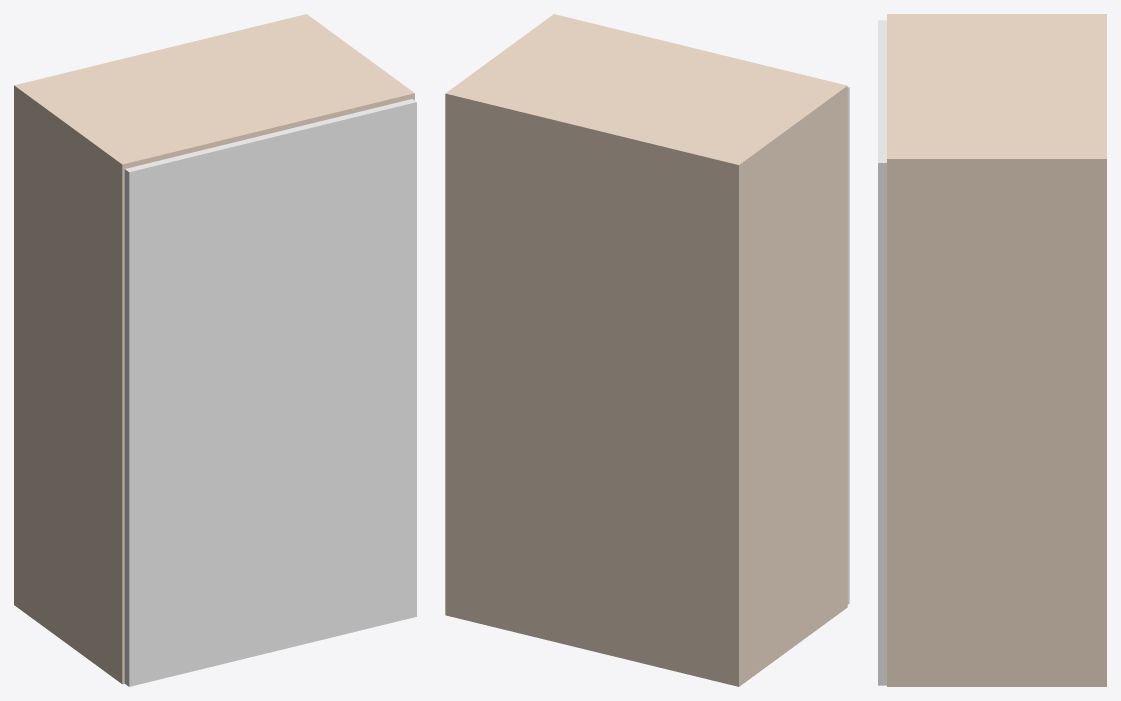
File: KTCH_ELIX_Cabinet_60_40_100_Extractor_Wall.FBX
The picture shows the model from 3 angles, left to right: view 1: azimuth 30°, elevation 25°; view 2: azimuth 150°, elevation 25°; view 3: azimuth 270°, elevation 25°; orthographic projection.
Visible parts, largest first — view 1: KTCH_ELIX_Cabinet_60_40_100_Extractor_Wall; view 2: KTCH_ELIX_Cabinet_60_40_100_Extractor_Wall; view 3: KTCH_ELIX_Cabinet_60_40_100_Extractor_Wall.
Boxes of the visible parts, left/top/right/bottom form: KTCH_ELIX_Cabinet_60_40_100_Extractor_Wall: left=14, top=14, right=416, bottom=686; KTCH_ELIX_Cabinet_60_40_100_Extractor_Wall: left=445, top=14, right=849, bottom=686; KTCH_ELIX_Cabinet_60_40_100_Extractor_Wall: left=878, top=14, right=1106, bottom=686.
Size of the model in its own units: 60 by 40 by 102.
